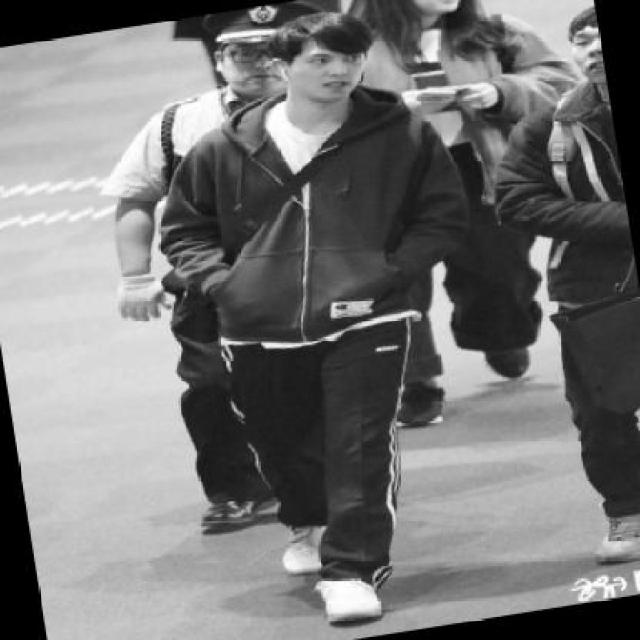earphone: (273, 60, 295, 86)
